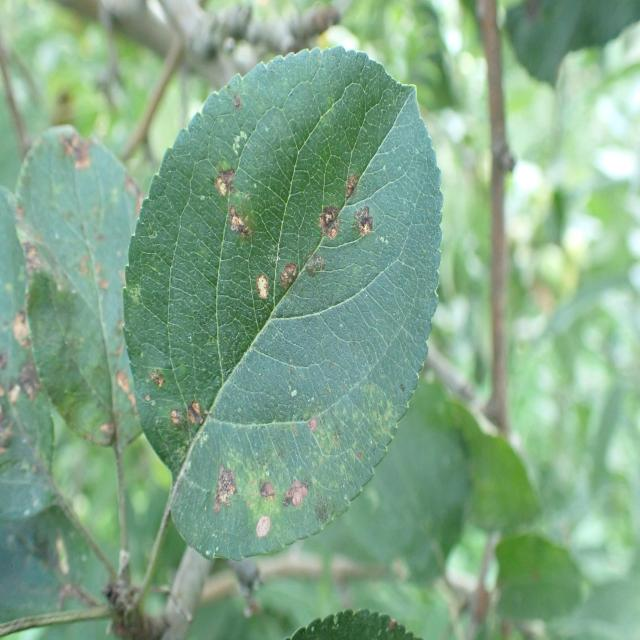frog-eye-leaf-spot: (122, 44, 444, 562)
